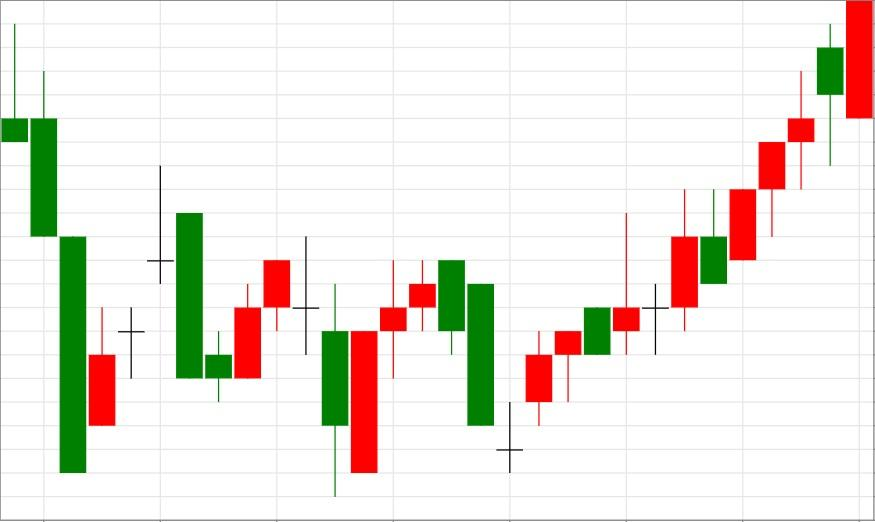bearish_engulfing_fall: (322, 259, 467, 498)
three_white_soldiers_rise: (262, 236, 437, 500)
